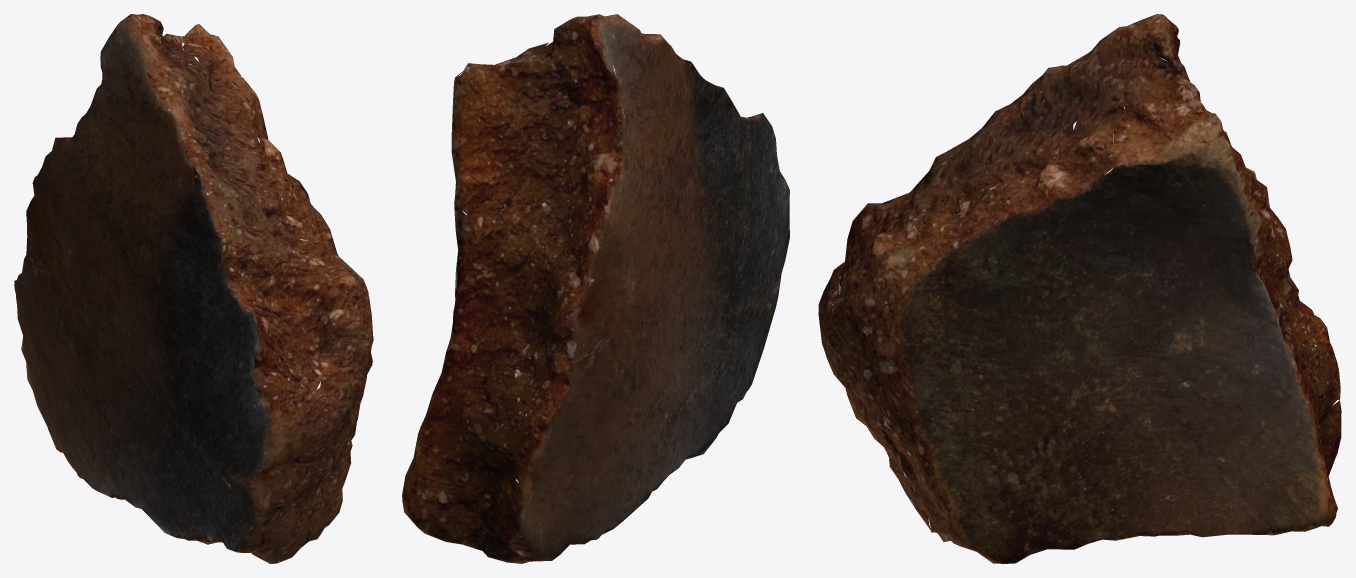
Rendered from piece12_10000_resHi.glb.
The picture shows the model from 3 angles, left to right: view 1: azimuth 30°, elevation 25°; view 2: azimuth 150°, elevation 25°; view 3: azimuth 270°, elevation 25°; orthographic projection. The views are drawn at different scales.
Bounding box in the file's own units: 0.1768 × 0.4902 × 0.468.
1 material, 1 textured.
